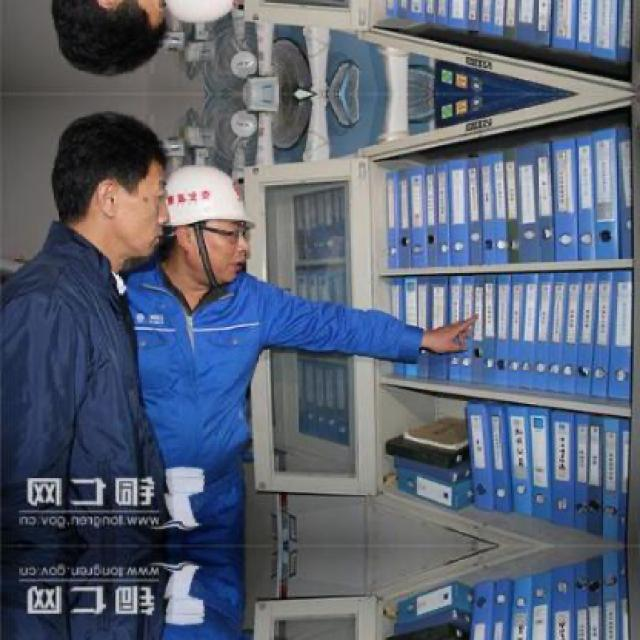con casco: (131, 165, 262, 302)
sin casco: (31, 110, 201, 284)
